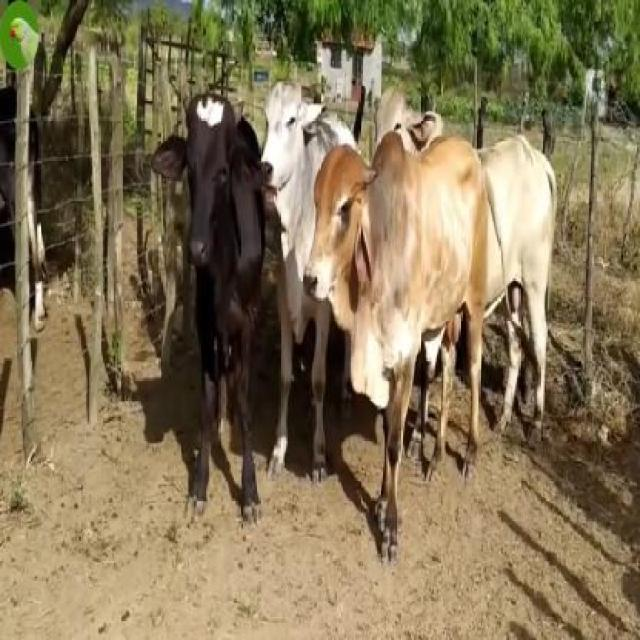Cow: (304, 138, 484, 568), (179, 96, 263, 516), (260, 77, 322, 229)
